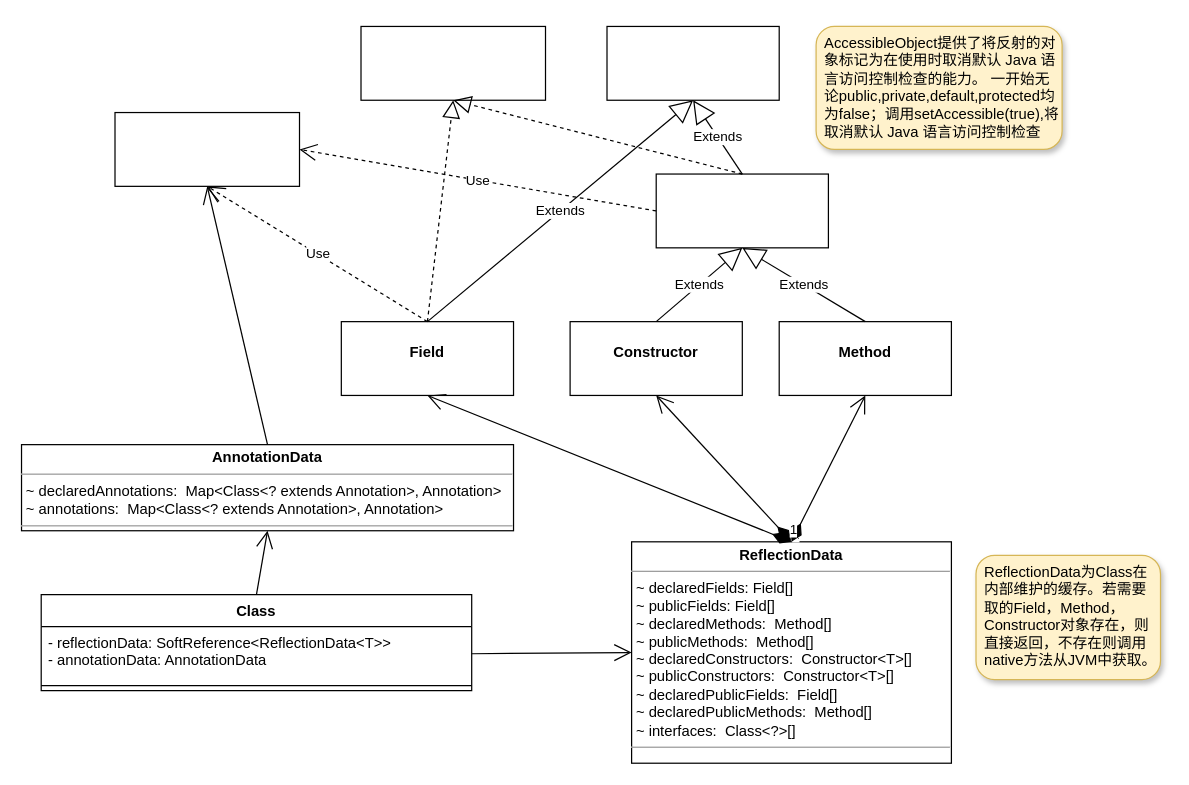
The diagram is 1189 pixels wide and 785 high, and some of its shapes have lost their labels. The centre of each missing label's shape, as x and y in pixels:
"<<Abstract>> Executable" belongs at [741,210].
"<<Interface>> Annotation" belongs at [207,148].
"<<Interface>> Member" belongs at [453,62].
"AccessibleObject" belongs at [692,62].
